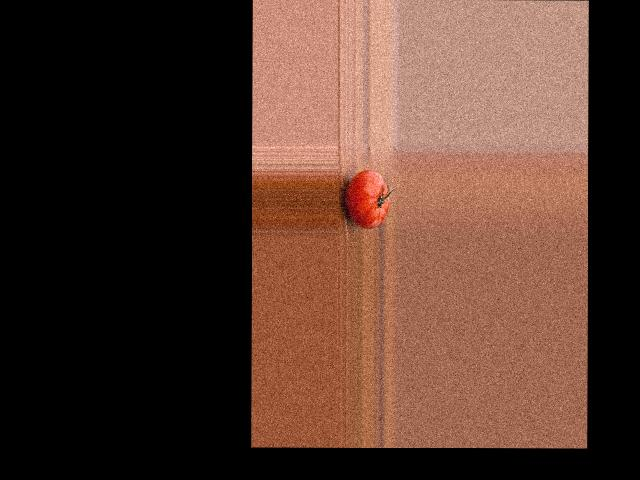tomato: (344, 169, 389, 228)
